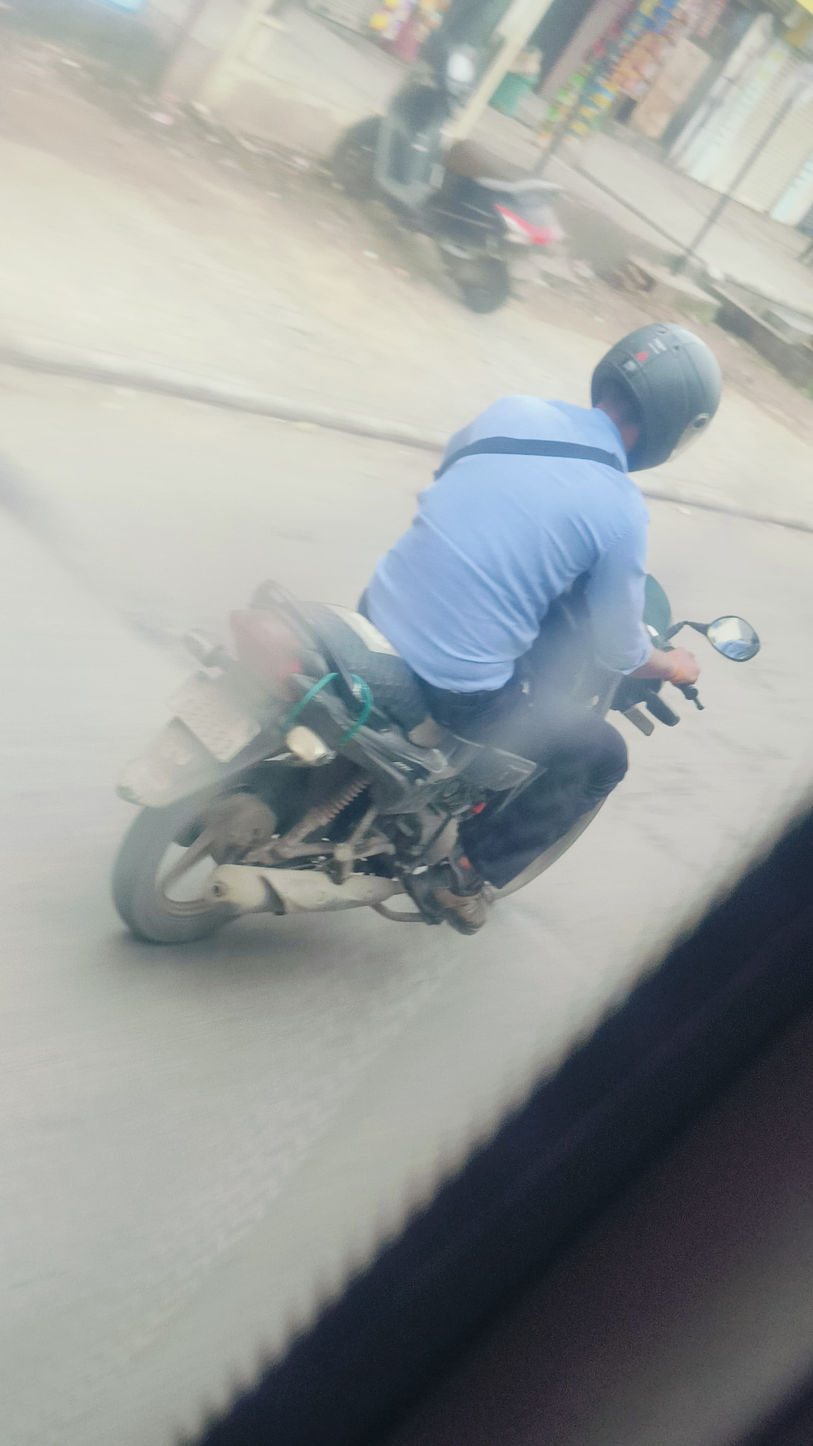BikeWithRider: (79, 245, 800, 1029)
Helmet: (571, 301, 747, 483)
